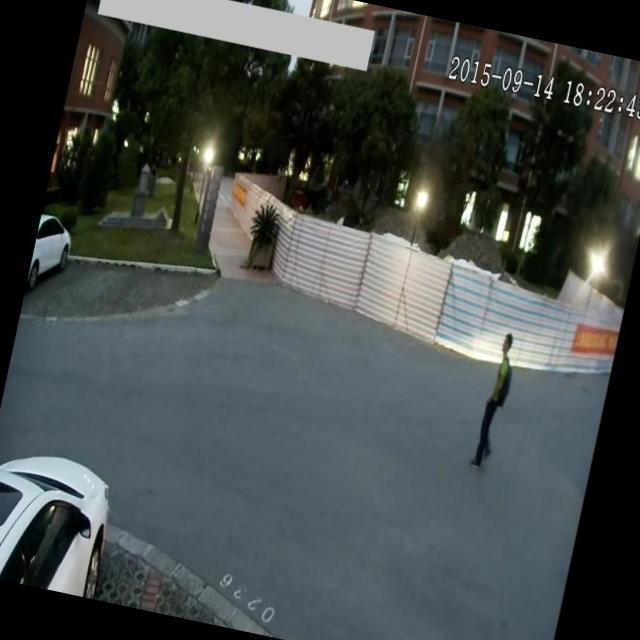person: (468, 320, 523, 471)
